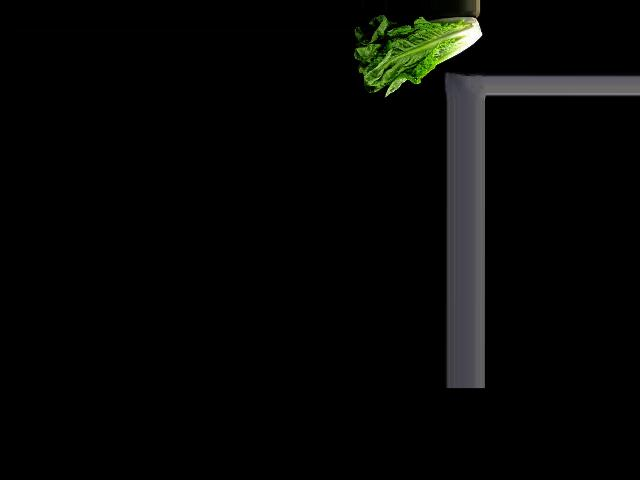lettuce: (351, 14, 483, 96)
